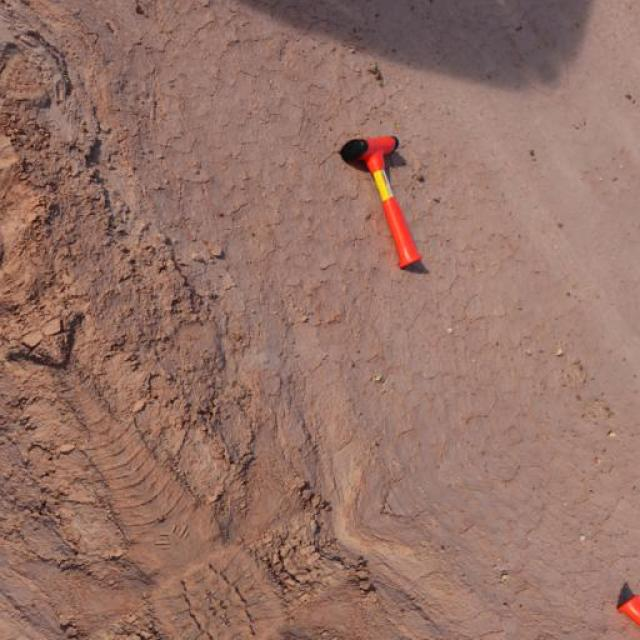mallet: (338, 132, 422, 270)
